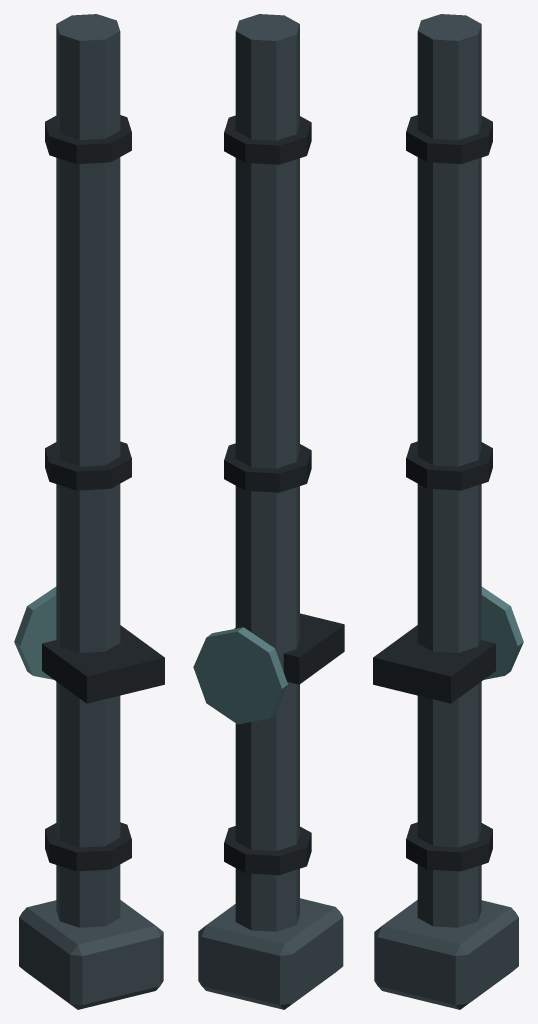
Rendered from Env_PipeDrop.fbx.
3 renders of one model, left to right at view 1: azimuth 30°, elevation 25°; view 2: azimuth 150°, elevation 25°; view 3: azimuth 330°, elevation 25°, orthographic.
Parts seen in each view (by area): view 1: Env_PipeDrop; view 2: Env_PipeDrop; view 3: Env_PipeDrop.
Boxes of the visible parts, x1,y1,x2,y2 form: Env_PipeDrop: (14,14,164,1009); Env_PipeDrop: (193,14,344,1009); Env_PipeDrop: (373,14,523,1009).
Size of the model in its own units: 0.36 by 0.45 by 3.5.
